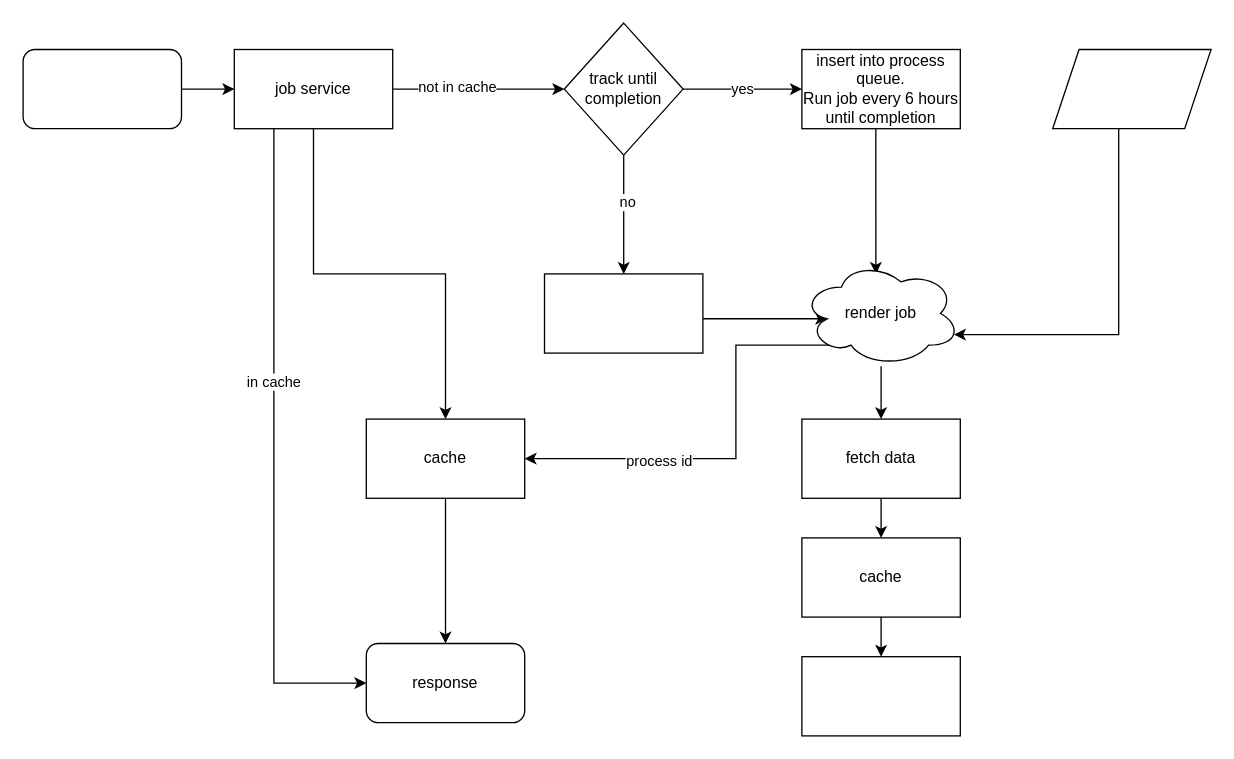
The diagram is 1234 pixels wide and 759 high, and some of its shapes have lost their labels. The centre of each missing label's shape, as x and y in pixels:
call webhook: (x=880, y=695)
insert into process queue: (x=623, y=313)
tracking data: (x=1131, y=88)
tracking request: (x=102, y=88)
